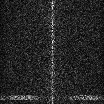wifi: (1, 94, 104, 100)
